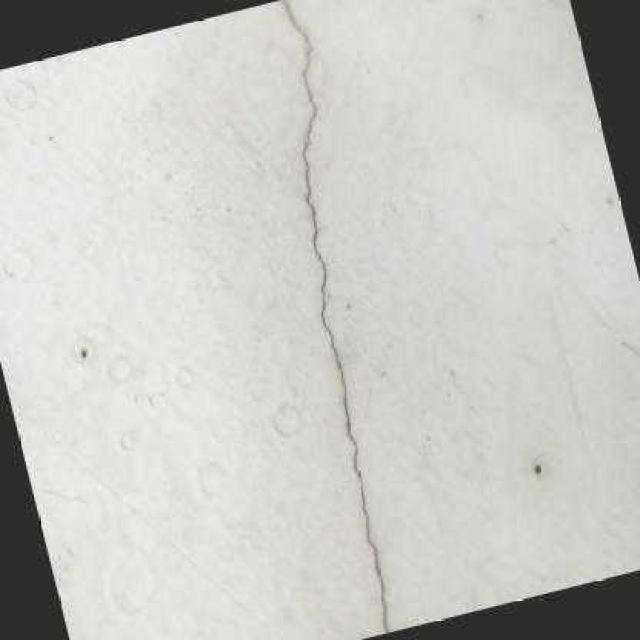D00: (281, 0, 343, 376), (340, 375, 390, 633)
